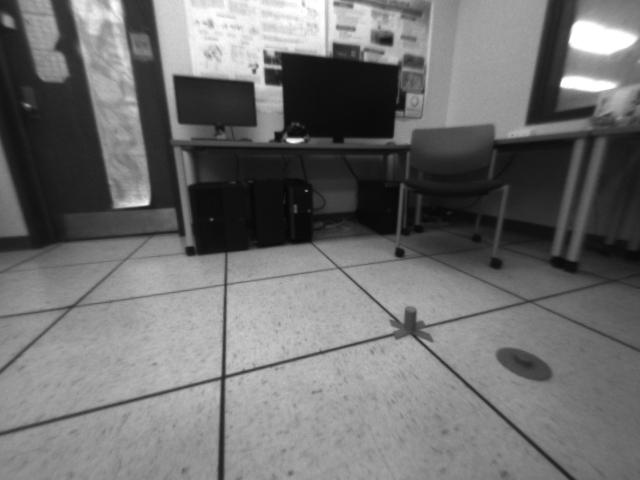X: (388, 305, 436, 343)
